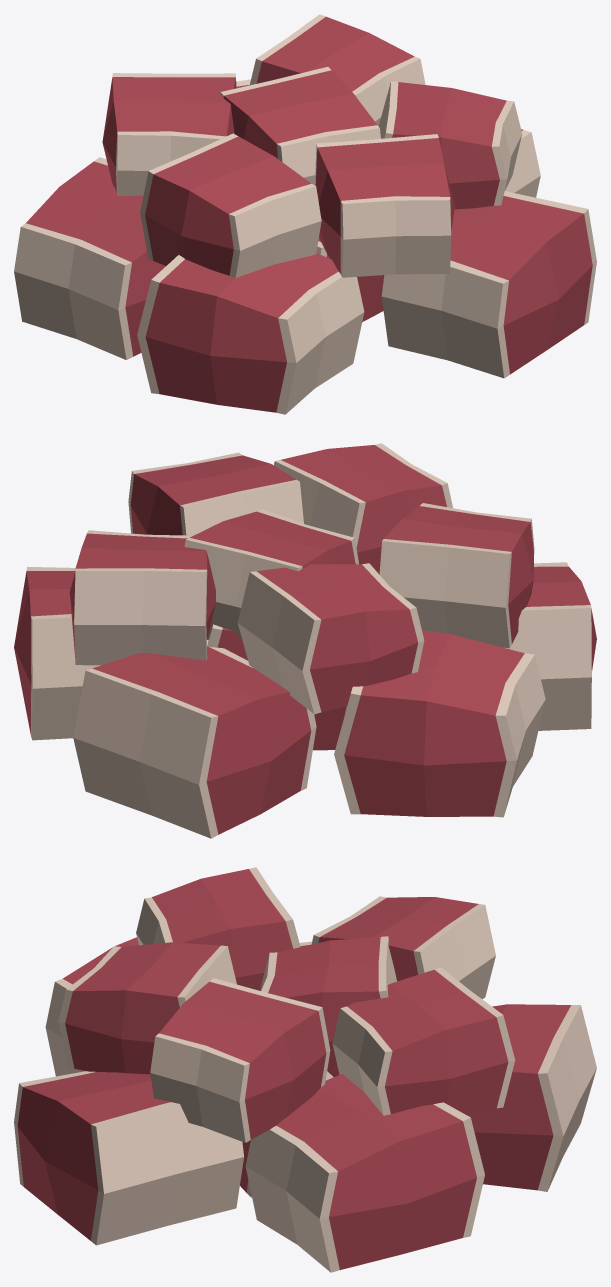
Rendered from Goat Meat.fbx.
3 renders of one model, top to bottom at view 1: azimuth 30°, elevation 25°; view 2: azimuth 150°, elevation 25°; view 3: azimuth 270°, elevation 25°, orthographic. The views are drawn at different scales.
Visible parts, largest first — view 1: Goat Meat.001; view 2: Goat Meat.001; view 3: Goat Meat.001.
Boxes of the visible parts, x1,y1,x2,y2 form: Goat Meat.001: (14,14,596,414); Goat Meat.001: (14,443,596,838); Goat Meat.001: (14,867,596,1272).
Size of the model in its own units: 96.5 by 34.41 by 94.36.
